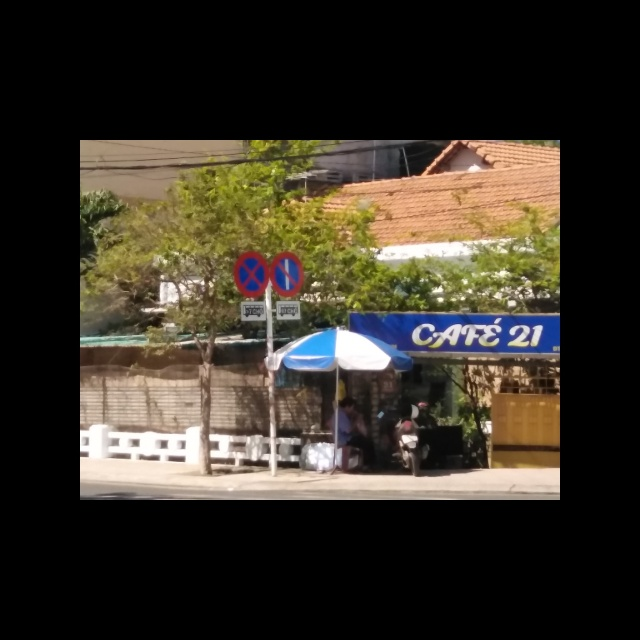Cấm dừng xe và đỗ xe: (232, 251, 269, 298)
Cấm đỗ xe ngày lẻ: (269, 251, 304, 298)
